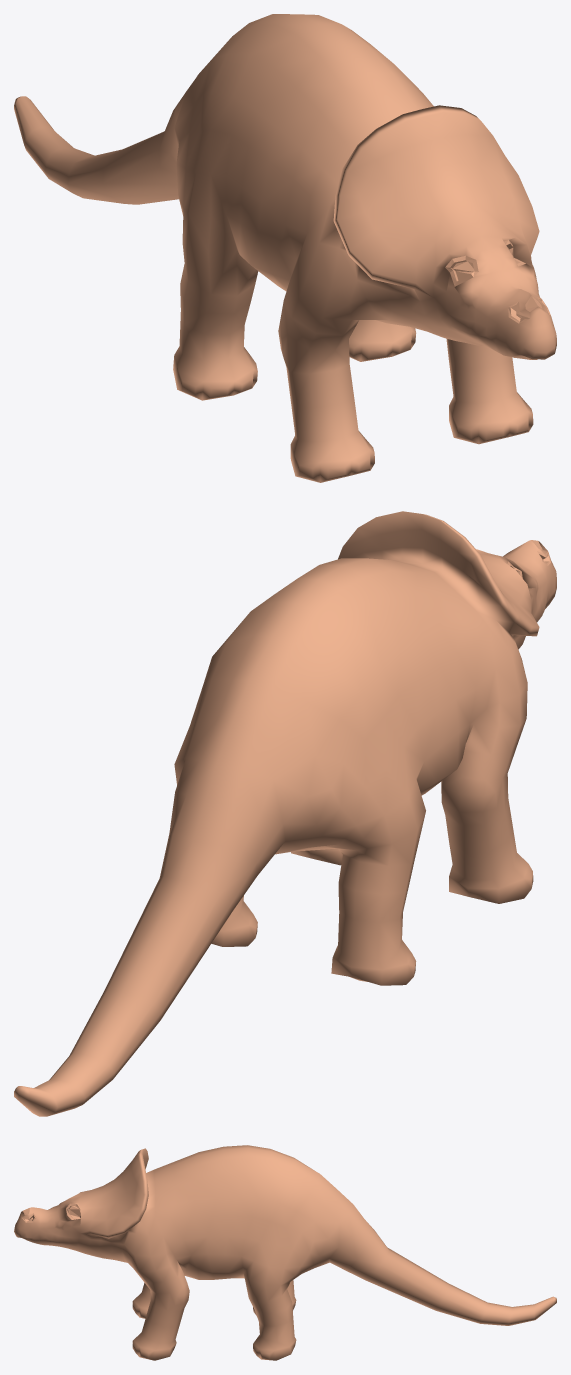
File: Ammyt_test1.fbx
3 views of the same model, one above another, from view 1: azimuth 30°, elevation 25°; view 2: azimuth 150°, elevation 25°; view 3: azimuth 270°, elevation 25° (orthographic). The views are drawn at different scales.
Parts seen in each view (by area): view 1: Ceratopsia_Ceratopsia; view 2: Ceratopsia_Ceratopsia; view 3: Ceratopsia_Ceratopsia.
Part boxes in pixels (left/top/right/bottom): Ceratopsia_Ceratopsia: left=14, top=14, right=556, bottom=482; Ceratopsia_Ceratopsia: left=14, top=511, right=556, bottom=1116; Ceratopsia_Ceratopsia: left=14, top=1145, right=556, bottom=1360.
Size of the model in its own units: 277 by 412 by 1094.
